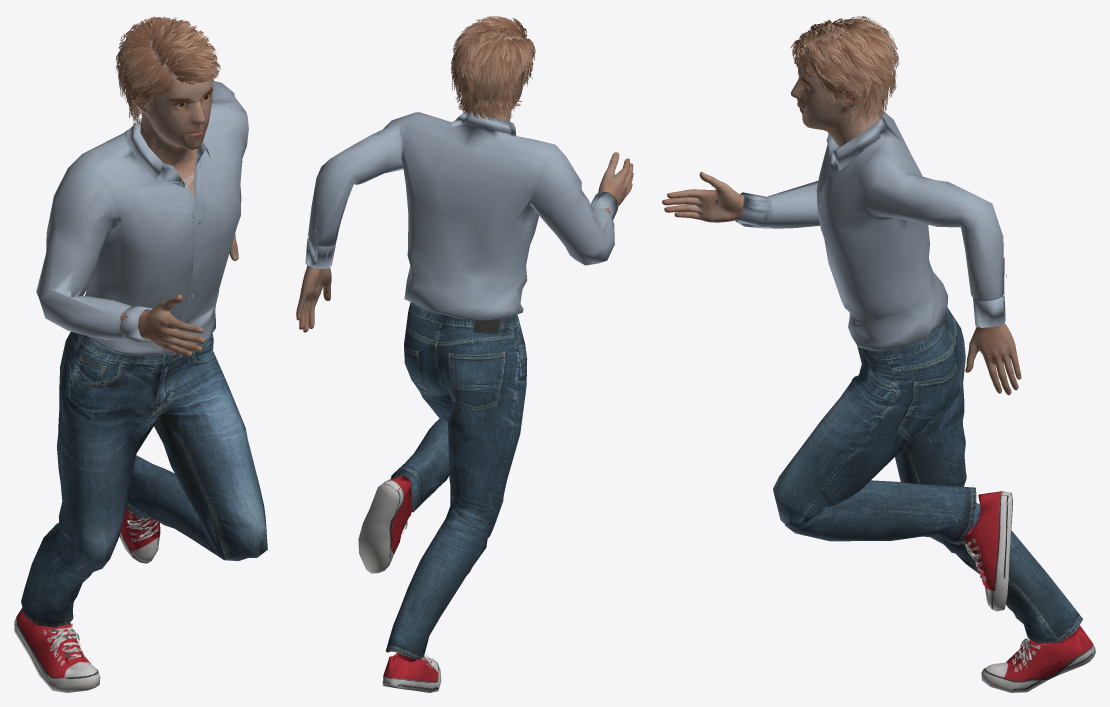
File: Human_01_Run.fbx
3 renders of one model, left to right at view 1: azimuth 30°, elevation 25°; view 2: azimuth 150°, elevation 25°; view 3: azimuth 270°, elevation 25°, orthographic. The views are drawn at different scales.
Visible parts, largest first — view 1: Human 01 Run; view 2: Human 01 Run; view 3: Human 01 Run.
Boxes of the visible parts, left/top/right/bottom form: Human 01 Run: left=14, top=16, right=267, bottom=692; Human 01 Run: left=296, top=16, right=633, bottom=692; Human 01 Run: left=662, top=16, right=1095, bottom=692.
Bounding box in the file's own units: 70.77 × 179 × 105.
